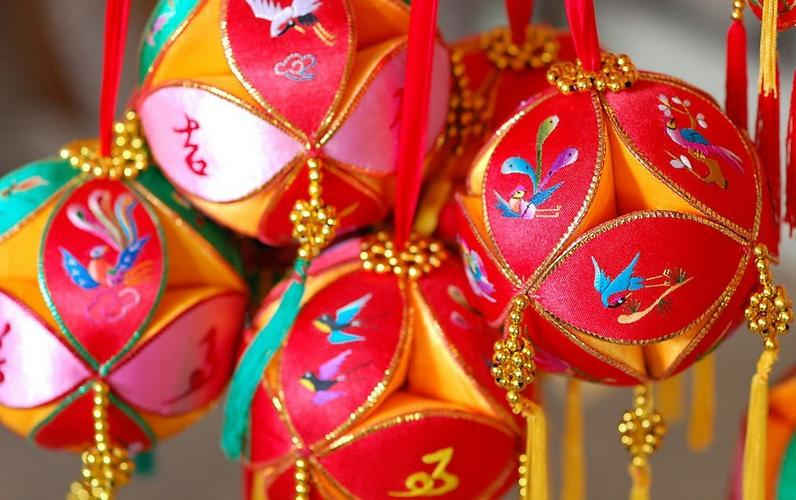xiuqiu: (459, 76, 778, 385)
